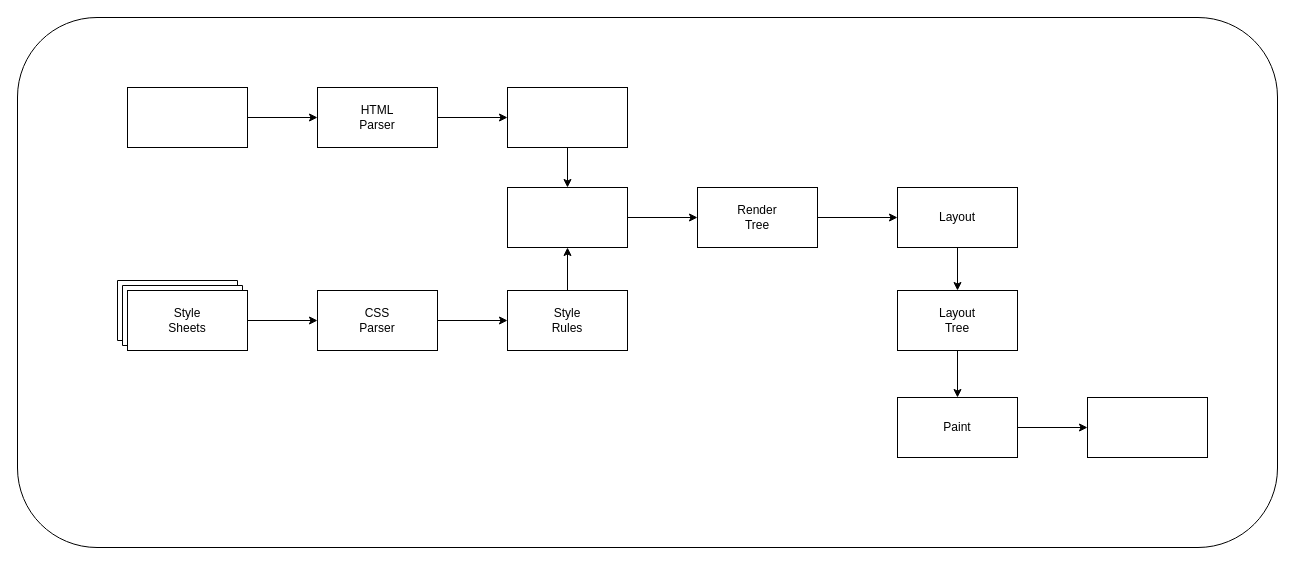
The diagram is 1295 pixels wide and 565 high, and some of its shapes have lost their labels. The shapes that lost their labels are listed below. From the top down, each one's centre as x and y in pixels, then its label:
At pixel 187 117: "HTML".
At pixel 567 117: "DOM Tree".
At pixel 567 217: "Attachment".
At pixel 1147 427: "Compositing".
